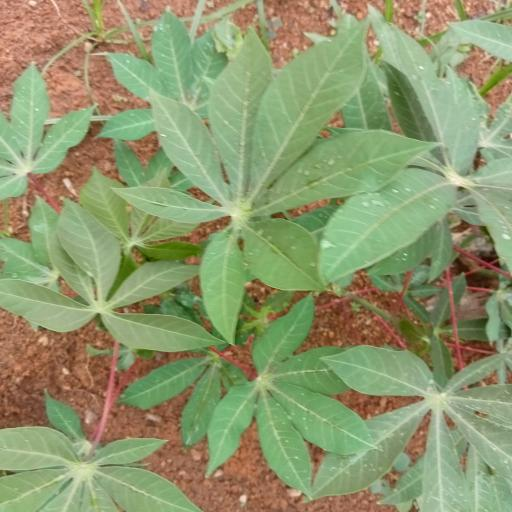Cassava_Mosaic: (134, 32, 388, 312), (324, 332, 512, 512)
